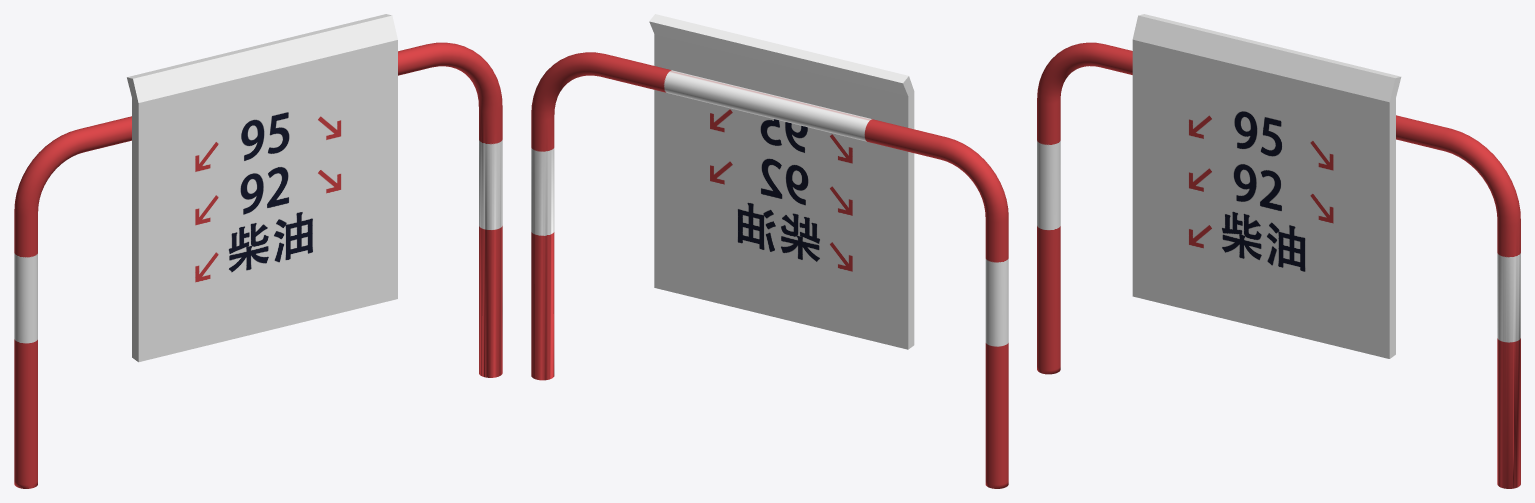
File: card.gltf
3 views of the same model, side by side, from view 1: azimuth 30°, elevation 25°; view 2: azimuth 150°, elevation 25°; view 3: azimuth 330°, elevation 25° (orthographic). The views are drawn at different scales.
Parts seen in each view (by area): view 1: 立方体; view 2: 立方体; view 3: 立方体.
Boxes of the visible parts, x1,y1,x2,y2 form: 立方体: (14,14,502,488); 立方体: (531,14,1008,488); 立方体: (1037,14,1520,488).
Bounding box in the file's own units: 1.12 × 0.8629 × 0.0796.
Materials: 2 (2 with a texture image).
